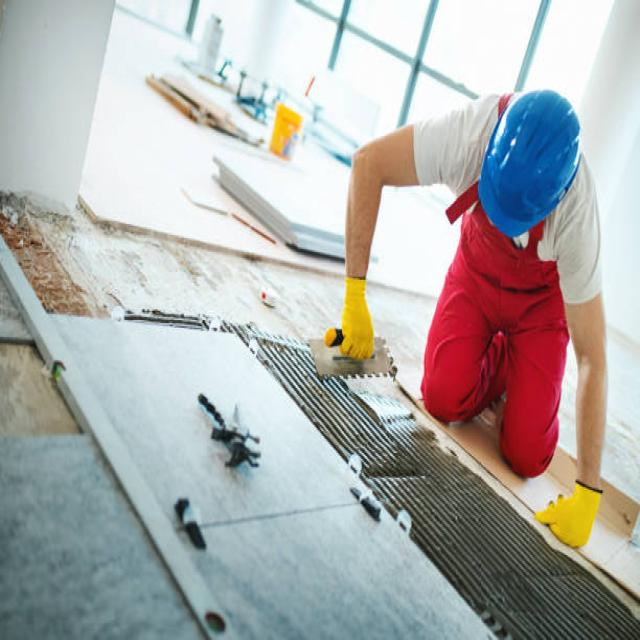gloves: (534, 476, 600, 547), (338, 276, 375, 358)
